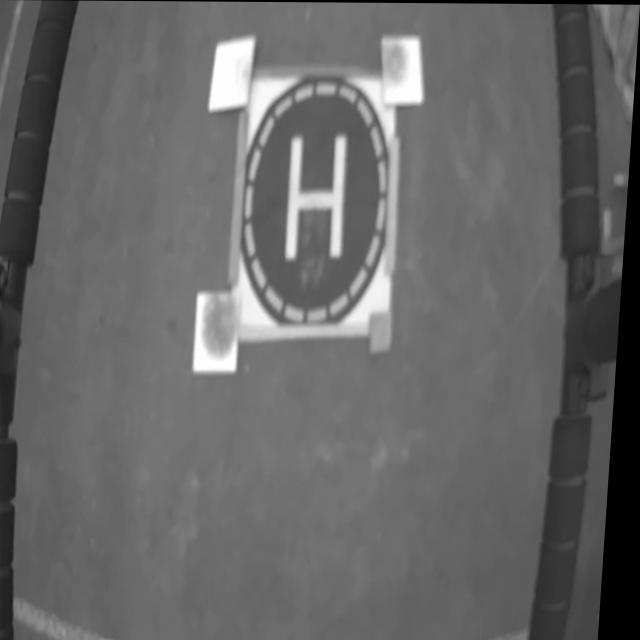Helipad: (289, 134, 350, 260)
